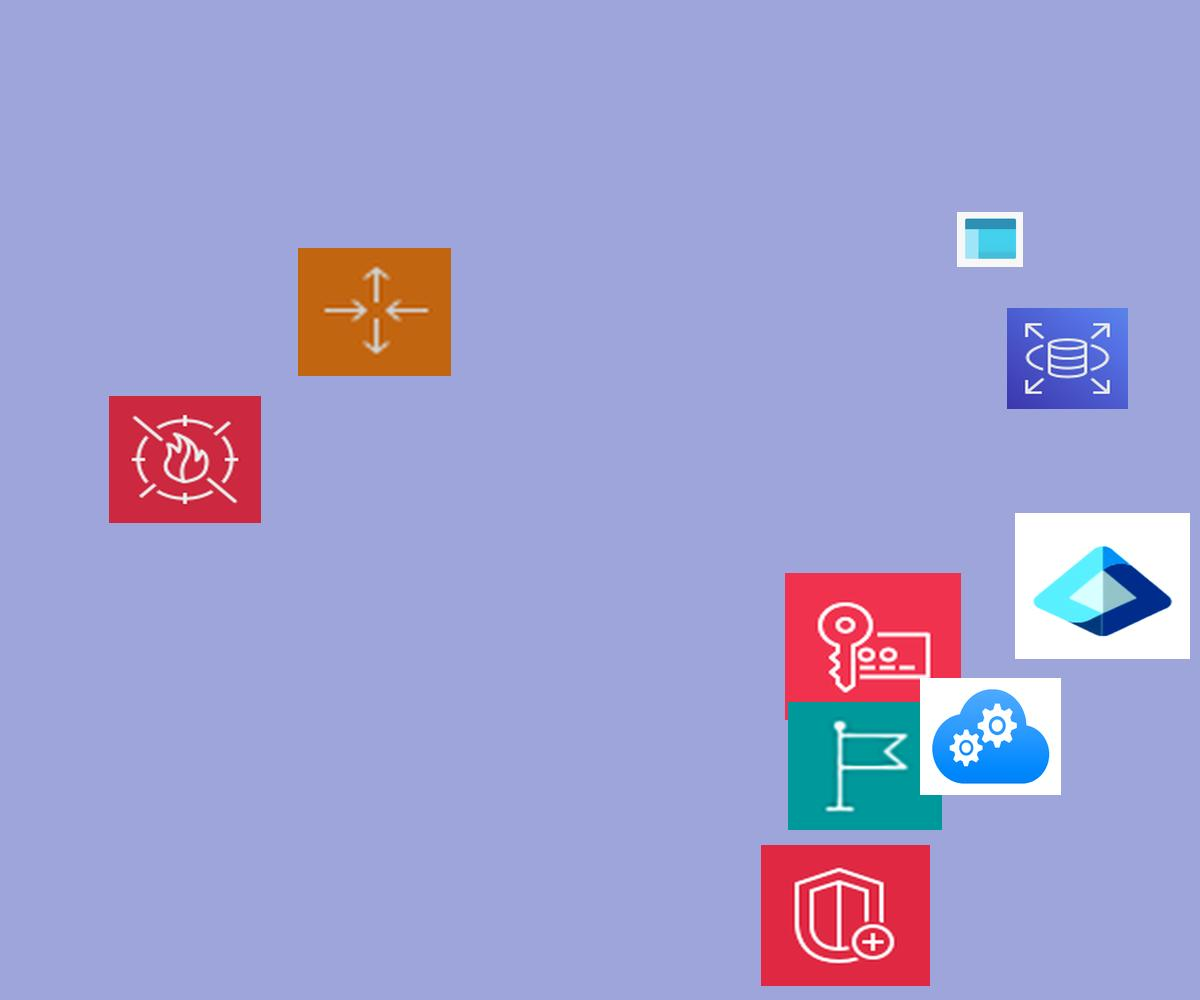AWS-Key-Management-Service: (785, 573, 961, 720)
AWS-RDS: (1007, 308, 1128, 409)
AWS-Region: (788, 702, 942, 830)
AWS-Scaling-group: (298, 248, 451, 376)
AWS-Shield: (761, 845, 930, 986)
AWS-WAF: (109, 396, 261, 523)
Azure_cloud_services: (920, 678, 1061, 795)
Azure_management-portal: (957, 212, 1023, 267)
Azure_microsoft_entra: (1015, 513, 1190, 659)
